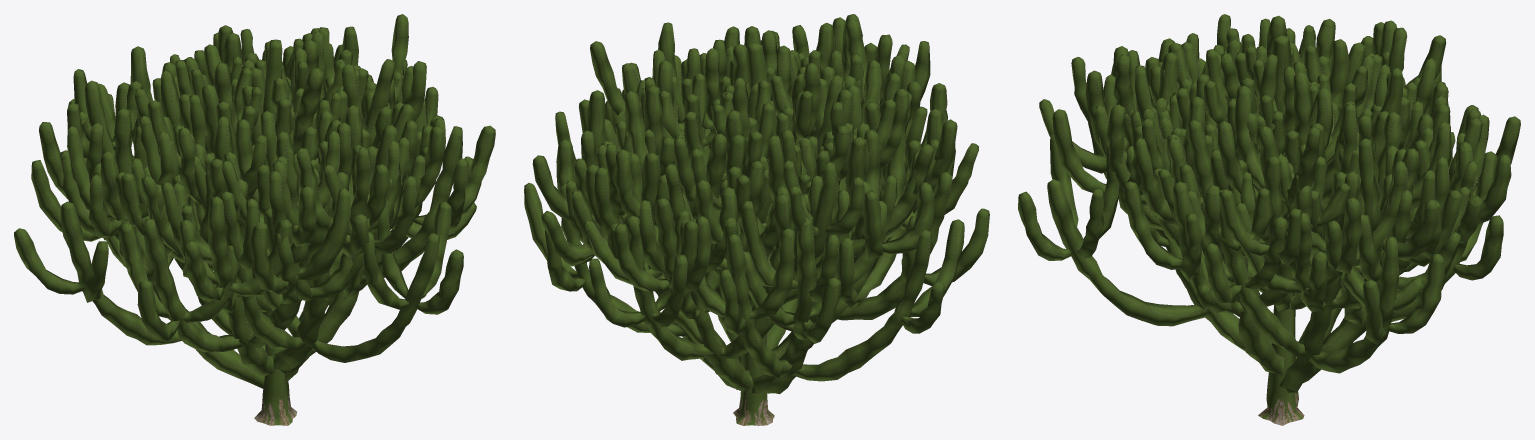
The model's file is Euphorbia candelabrum HD_Dwarf mat 75_LOD2.fbx.
3 renders of one model, left to right at view 1: azimuth 30°, elevation 25°; view 2: azimuth 150°, elevation 25°; view 3: azimuth 270°, elevation 25°, orthographic.
Visible parts, largest first — view 1: Euphorbia_candelabrum_HD; view 2: Euphorbia_candelabrum_HD; view 3: Euphorbia_candelabrum_HD.
Part boxes in pixels (bbox=[...]): Euphorbia_candelabrum_HD: bbox=[14, 14, 495, 425]; Euphorbia_candelabrum_HD: bbox=[524, 14, 989, 425]; Euphorbia_candelabrum_HD: bbox=[1018, 14, 1520, 425].
Bounding box in the file's own units: 3.11 × 2.72 × 3.26.
4 materials, 4 textured.
